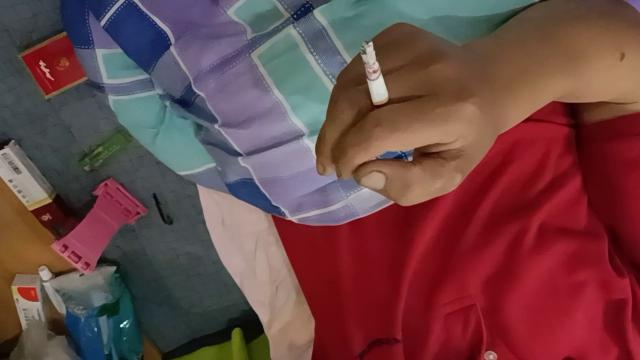Cigarette: (360, 39, 394, 120)
